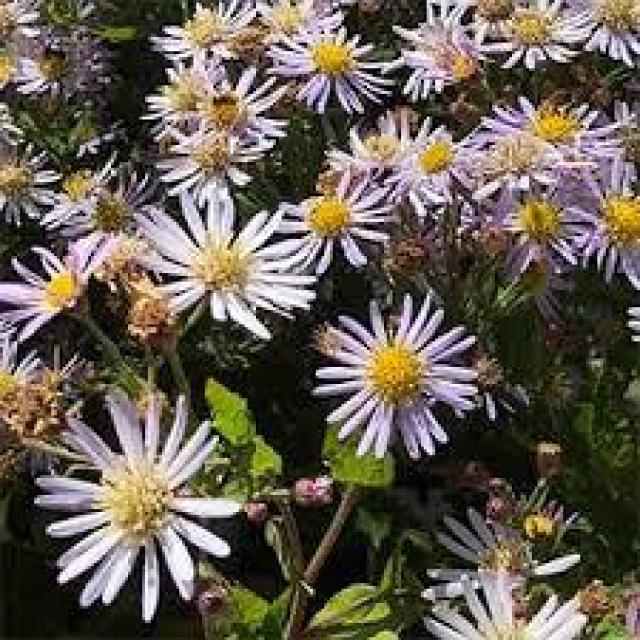organic waste: (37, 395, 242, 609), (442, 95, 636, 292), (311, 292, 488, 462), (138, 194, 337, 342), (246, 164, 403, 272), (151, 70, 273, 186), (13, 223, 115, 343), (260, 31, 400, 117), (376, 7, 480, 101), (30, 138, 124, 232), (152, 3, 249, 88), (475, 1, 569, 76)
